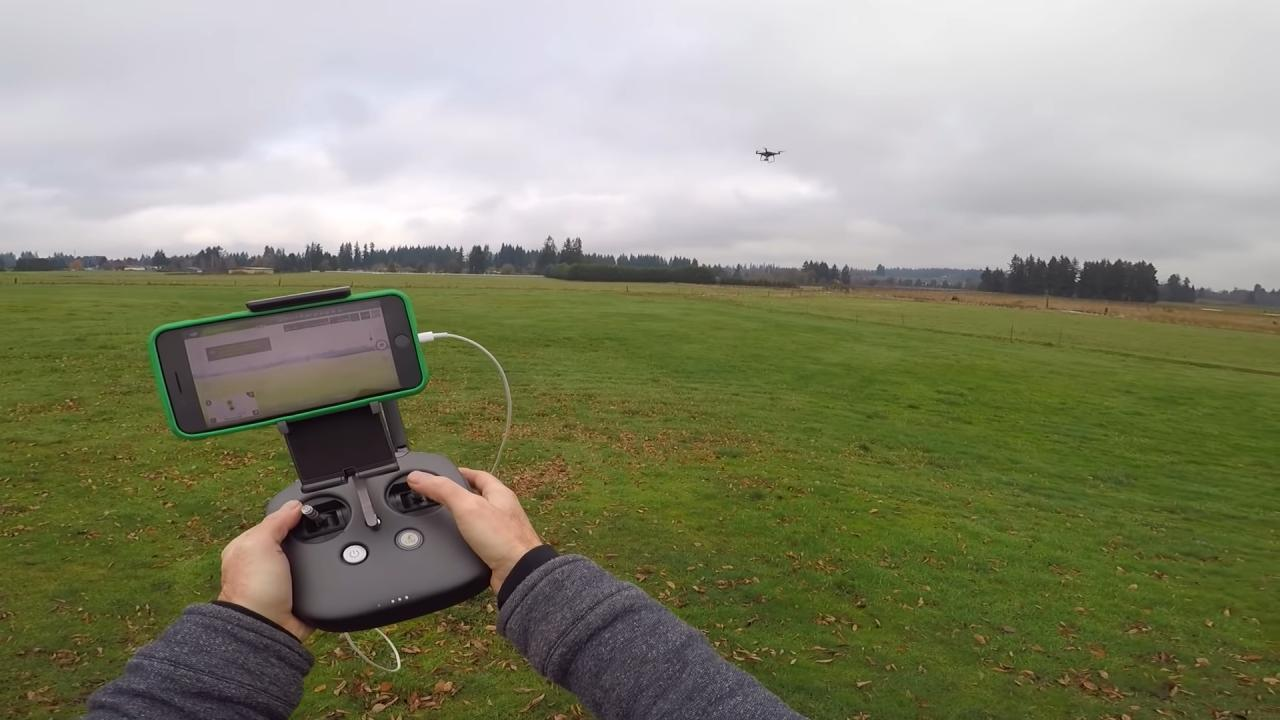Drone: (746, 140, 791, 166)
